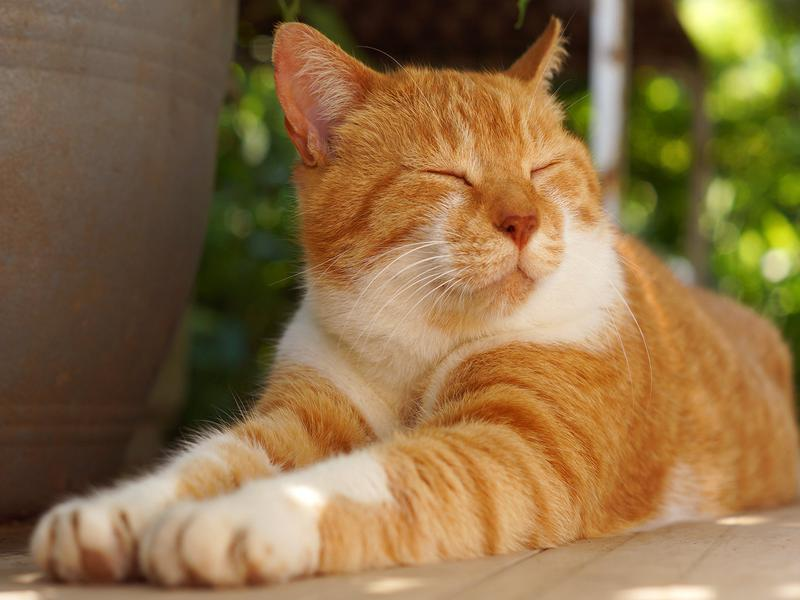cat: (24, 18, 800, 587)
